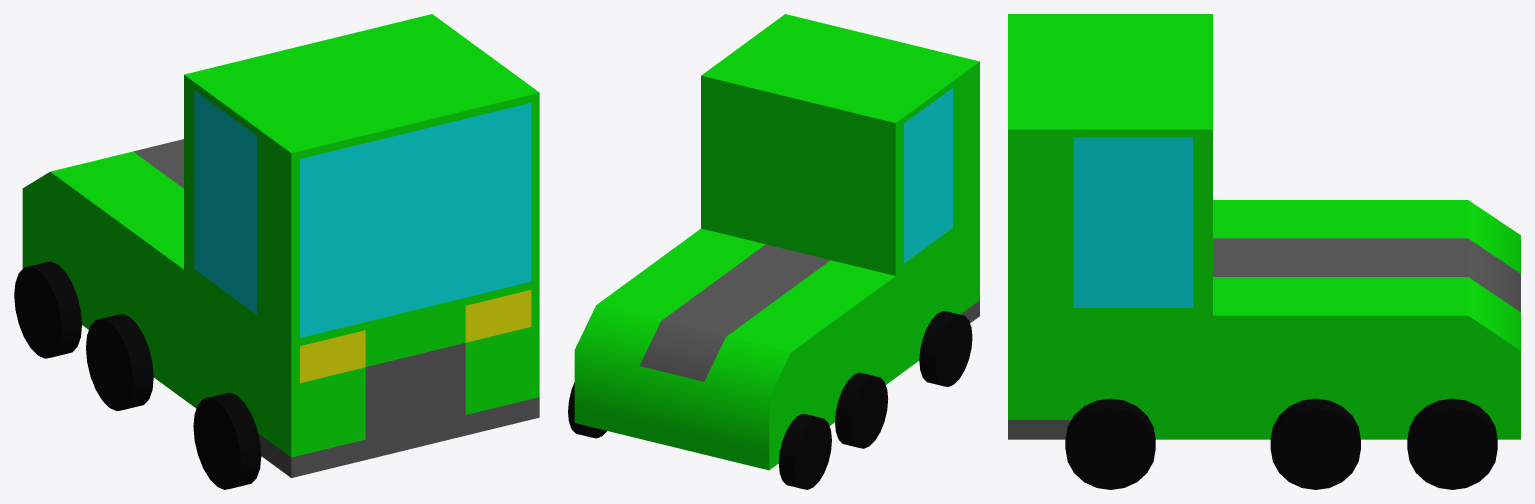
File: Truck.fbx
The picture shows the model from 3 angles, left to right: view 1: azimuth 30°, elevation 25°; view 2: azimuth 150°, elevation 25°; view 3: azimuth 270°, elevation 25°; orthographic projection. The views are drawn at different scales.
Parts seen in each view (by area): view 1: Body, Wheel4, Wheel3, Wheel5; view 2: Body, Wheel4, Wheel3, Wheel5, Wheel1; view 3: Body, Wheel2, Wheel6, Wheel1.
Boxes of the visible parts, x1,y1,x2,y2 form: Body: (22,14,539,477); Wheel4: (86,314,153,410); Wheel3: (193,392,261,489); Wheel5: (14,261,81,358); Body: (574,14,979,470); Wheel4: (835,372,887,448); Wheel3: (919,311,972,386); Wheel5: (778,413,831,489); Wheel1: (568,382,606,438); Body: (1008,14,1520,439); Wheel2: (1270,398,1360,489); Wheel6: (1065,398,1155,489); Wheel1: (1407,398,1497,489).
Size of the model in its own units: 4.66 by 5.66 by 7.5.
